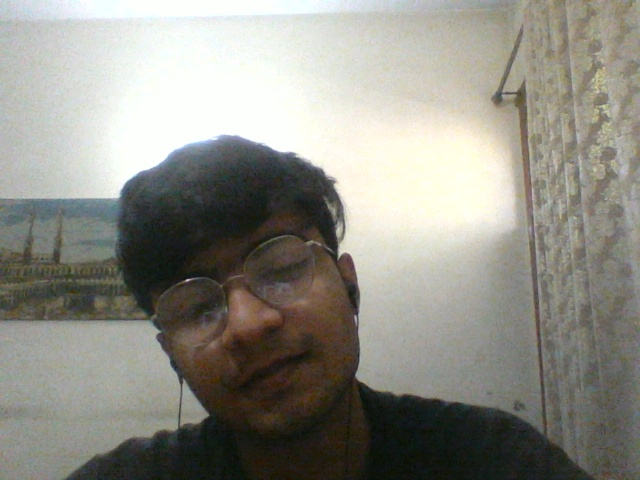happy: (122, 231, 370, 428)
